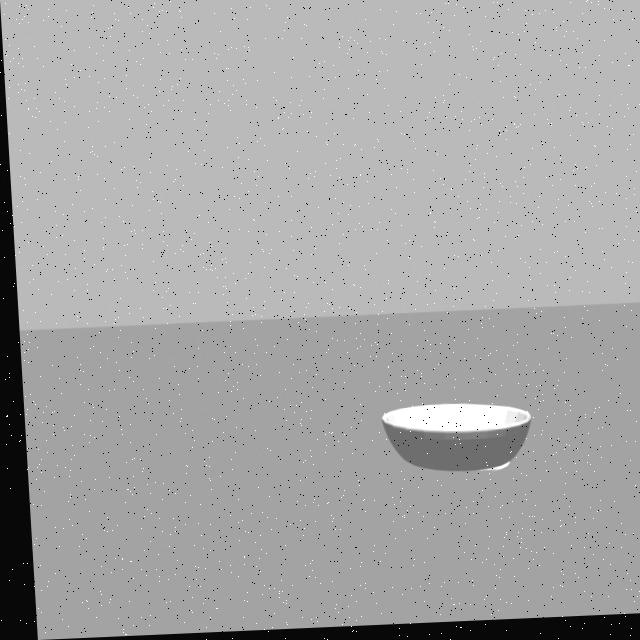bowl: (370, 382, 532, 487)
